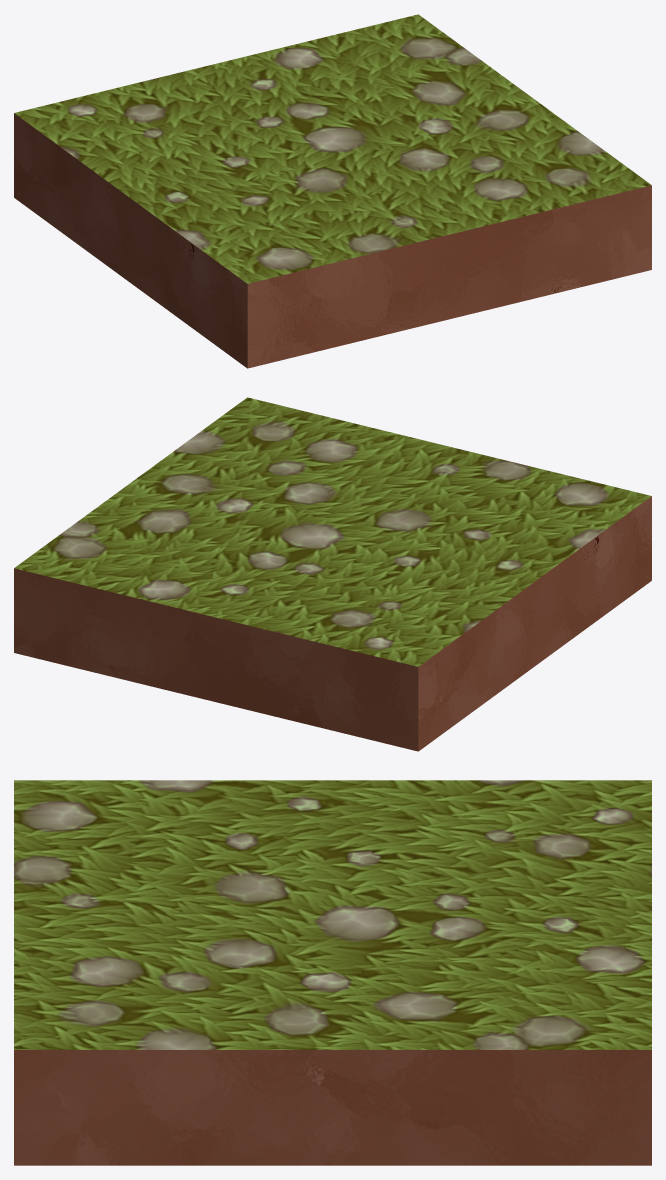
The model's file is grass_rock_soil.fbx.
3 views of the same model, one above another, from view 1: azimuth 30°, elevation 25°; view 2: azimuth 150°, elevation 25°; view 3: azimuth 270°, elevation 25° (orthographic). The views are drawn at different scales.
Parts seen in each view (by area): view 1: tile4; view 2: tile4; view 3: tile4.
Part boxes in pixels (bbox=[...]): tile4: bbox=[14, 14, 651, 368]; tile4: bbox=[14, 397, 651, 751]; tile4: bbox=[14, 780, 651, 1165].
Bounding box in the file's own units: 100 × 20 × 100.
1 material, 1 textured.
